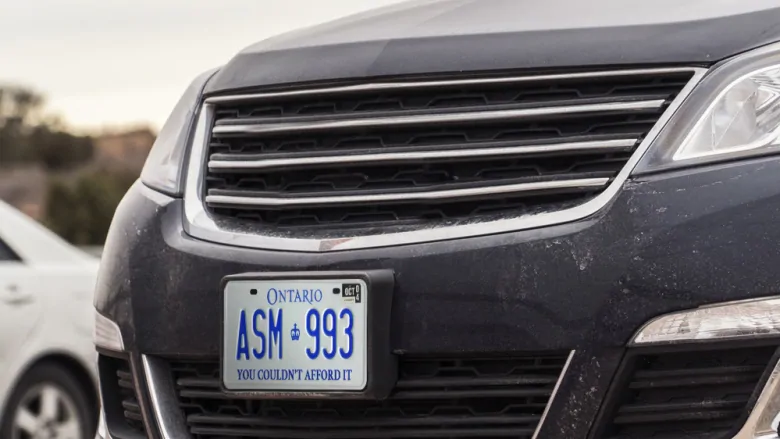license plate: (216, 276, 372, 397)
